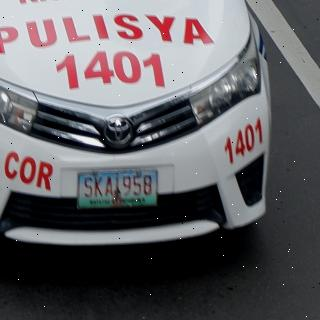license: (78, 171, 158, 210)
